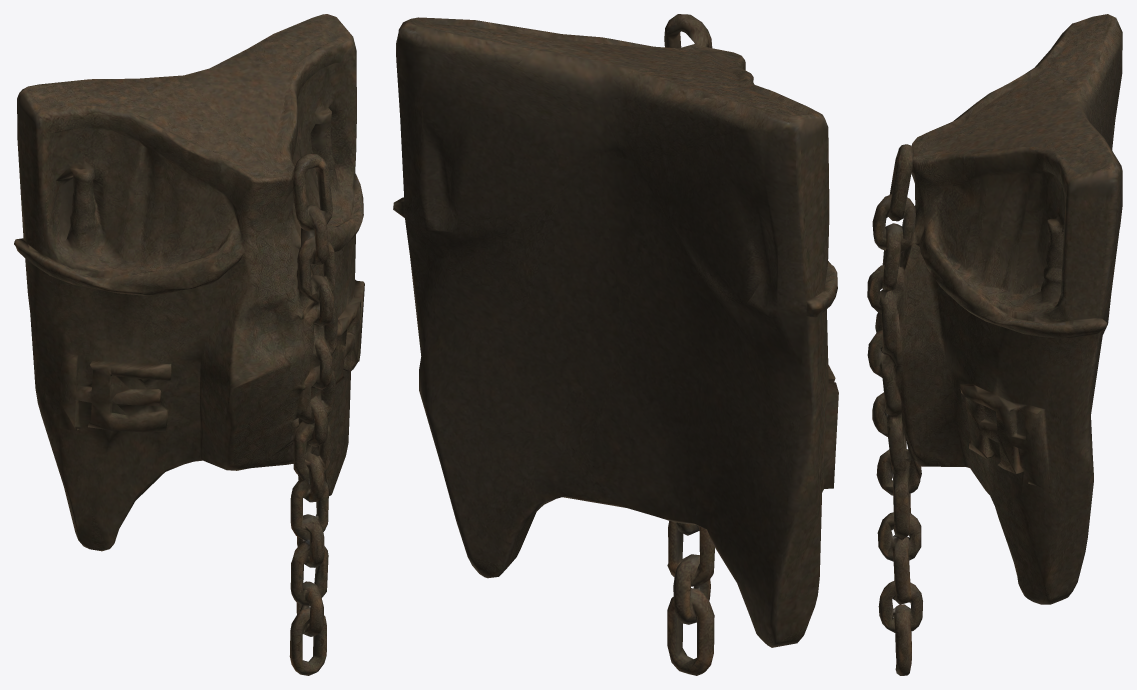
Rendered from chain.glb.
The picture shows the model from 3 angles, left to right: view 1: azimuth 30°, elevation 25°; view 2: azimuth 150°, elevation 25°; view 3: azimuth 270°, elevation 25°; orthographic projection. The views are drawn at different scales.
Bounding box in the file's own units: 1.19 × 1.9 × 0.7706.
Materials: 1 (1 with a texture image).
